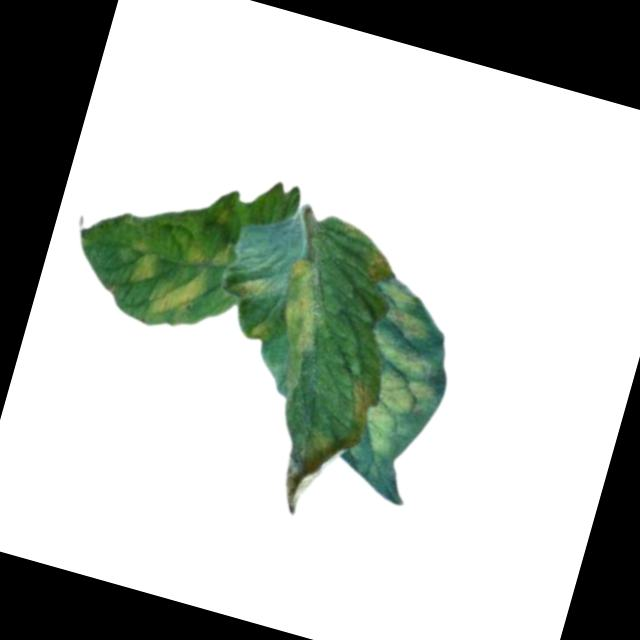Leaf_Mold: (333, 276, 460, 467), (265, 255, 335, 359), (143, 257, 210, 327), (333, 377, 374, 452), (118, 236, 163, 290), (181, 232, 233, 273), (229, 270, 265, 305)
